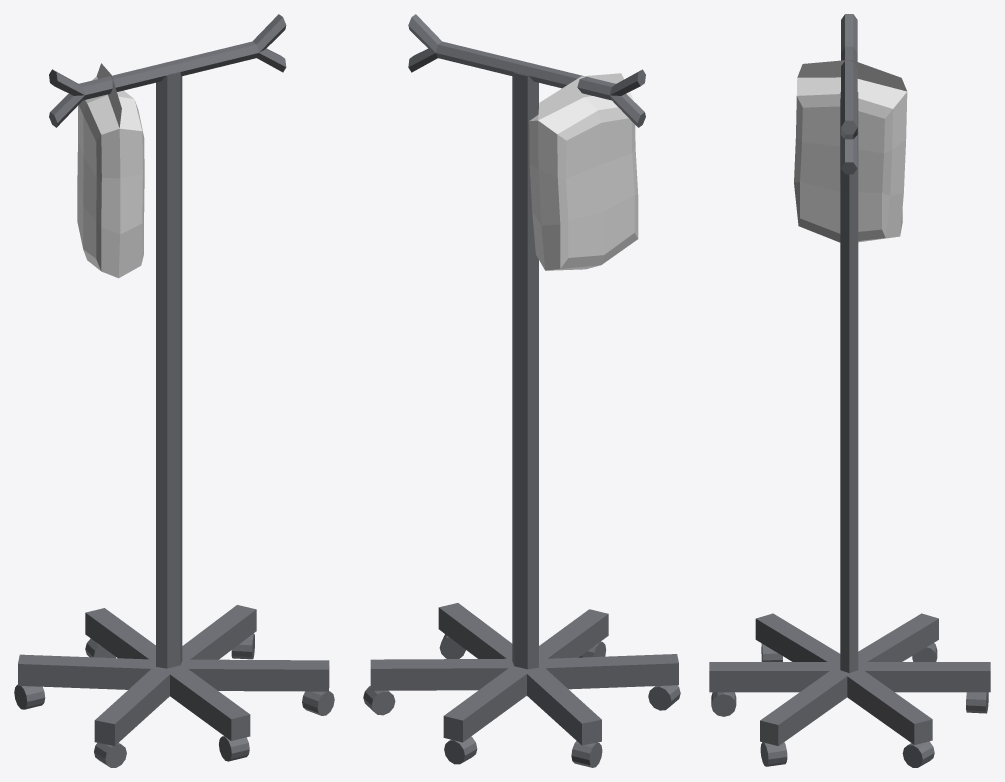
3 renders of one model, left to right at view 1: azimuth 30°, elevation 25°; view 2: azimuth 150°, elevation 25°; view 3: azimuth 270°, elevation 25°, orthographic. The views are drawn at different scales.
Parts seen in each view (by area): view 1: IV, Bag; view 2: IV, Bag; view 3: IV, Bag.
Boxes of the visible parts, box(x1,y1,x2,y2) form: IV: box(14, 14, 334, 767); Bag: box(77, 63, 144, 278); IV: box(363, 14, 680, 767); Bag: box(529, 73, 638, 270); IV: box(709, 14, 990, 767); Bag: box(794, 59, 907, 242).
Bounding box in the file's own units: 82.26 × 86.08 × 218.
